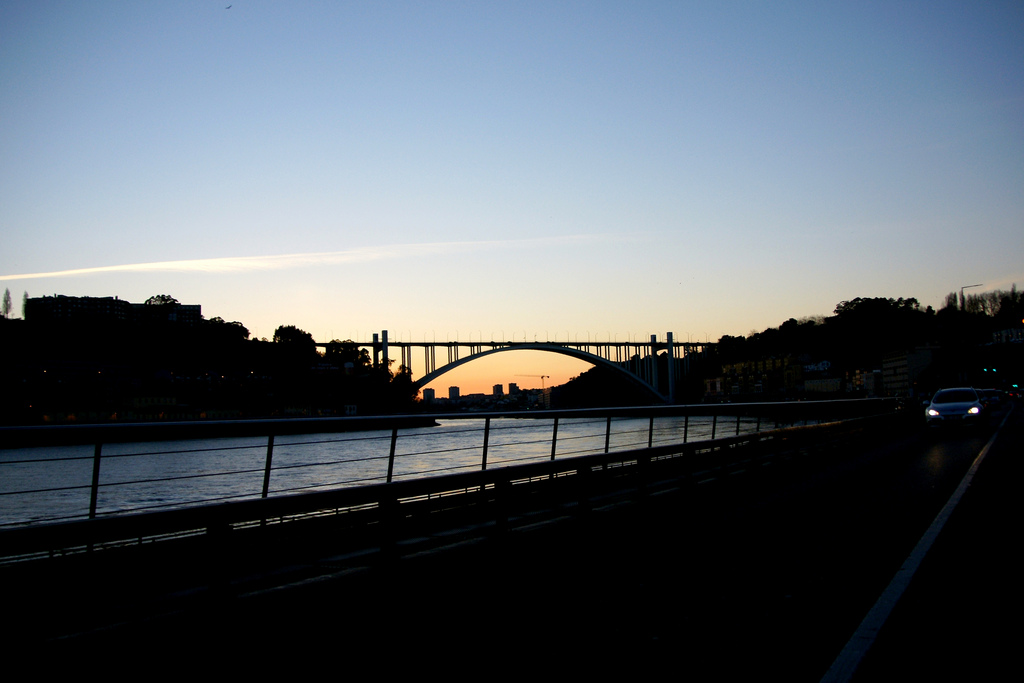arrabida: (350, 331, 709, 413)
